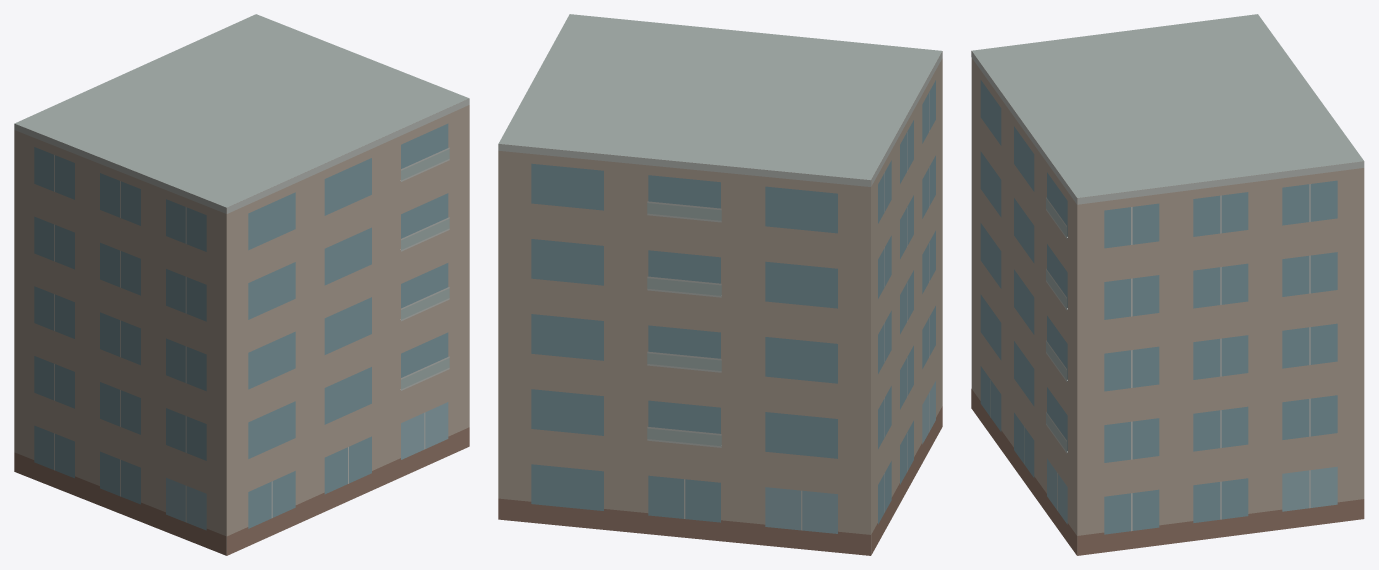
The model's file is survey-upis-32780335.glb.
3 renders of one model, left to right at view 1: azimuth 30°, elevation 25°; view 2: azimuth 150°, elevation 25°; view 3: azimuth 270°, elevation 25°, orthographic. The views are drawn at different scales.
Parts seen in each view (by area): view 1: survey-upis-32780335.tmp; view 2: survey-upis-32780335.tmp; view 3: survey-upis-32780335.tmp.
Part boxes in pixels (box(x1,y1,x2,y2)): survey-upis-32780335.tmp: box(14, 14, 469, 555); survey-upis-32780335.tmp: box(498, 14, 942, 555); survey-upis-32780335.tmp: box(971, 14, 1364, 555).
Size of the model in its own units: 14.58 by 13.2 by 13.15.
